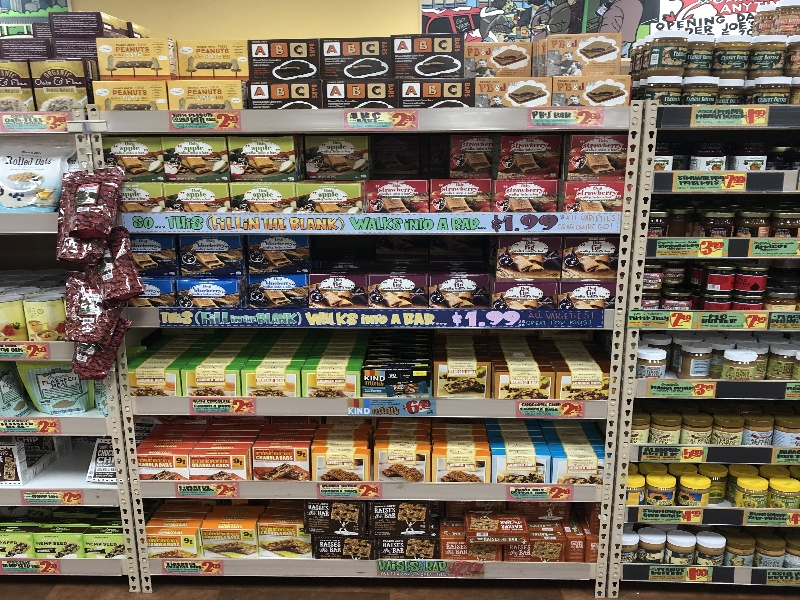void: (24, 442, 88, 485)
